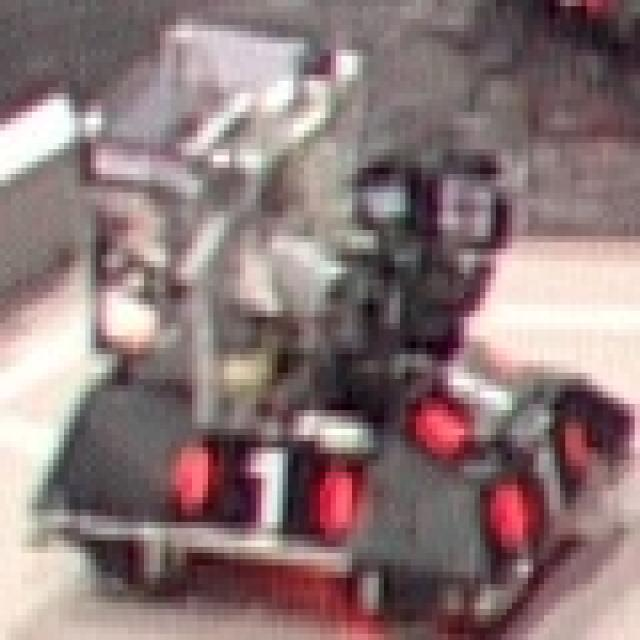R1: (171, 435, 352, 528), (485, 416, 592, 547)
